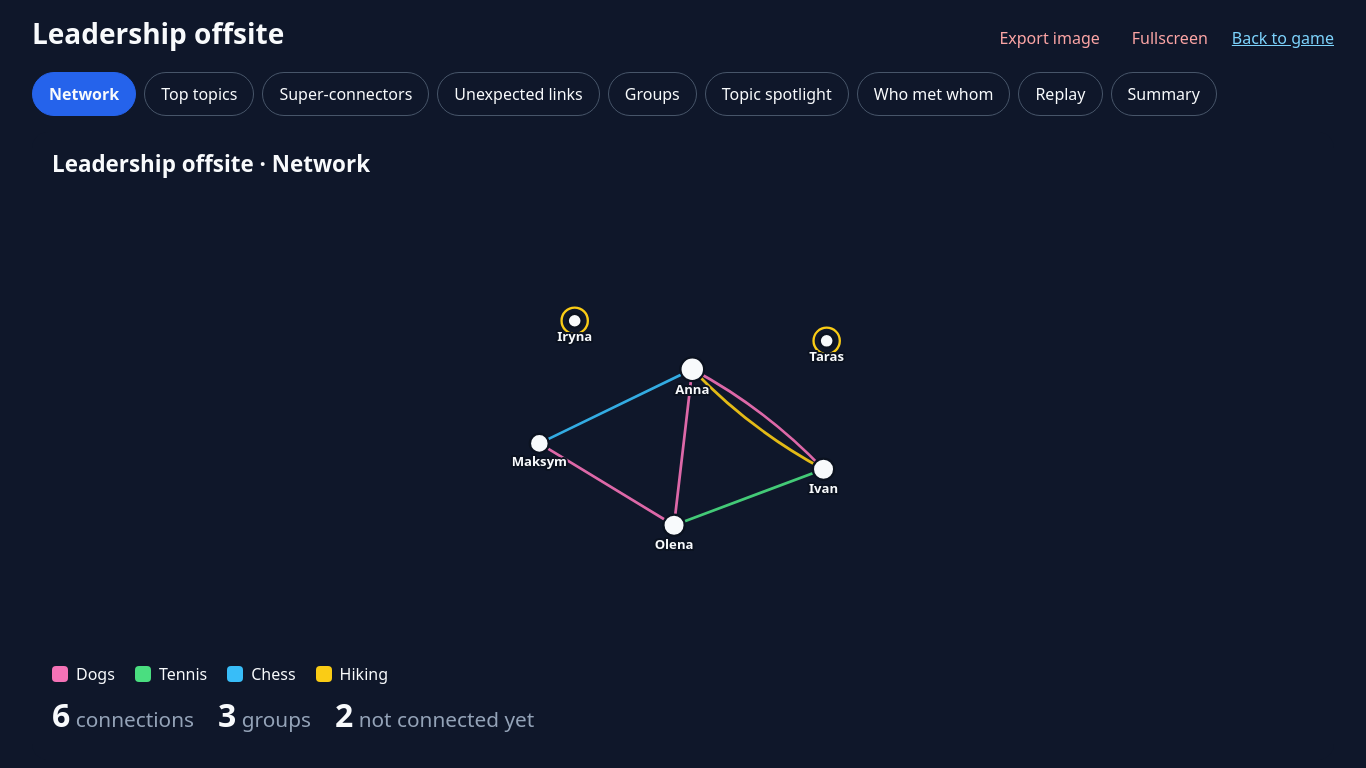
Test case: results page › switches views with the tabs
The image size is (1366, 768).
Step 1. Click the button "Summary" → (1164, 94), box [1110,72,1217,116]
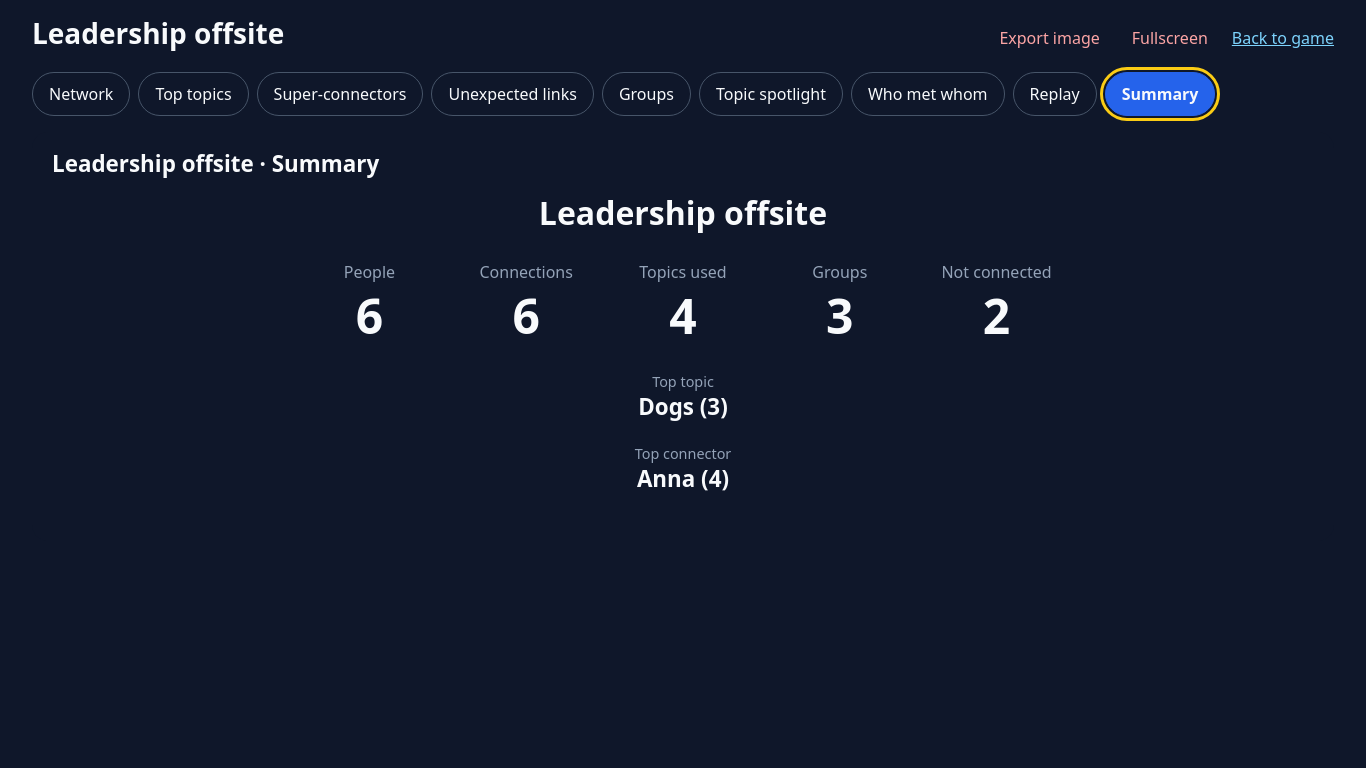
Expected: the text "Top connector" is shown, [635,444,731,463]
